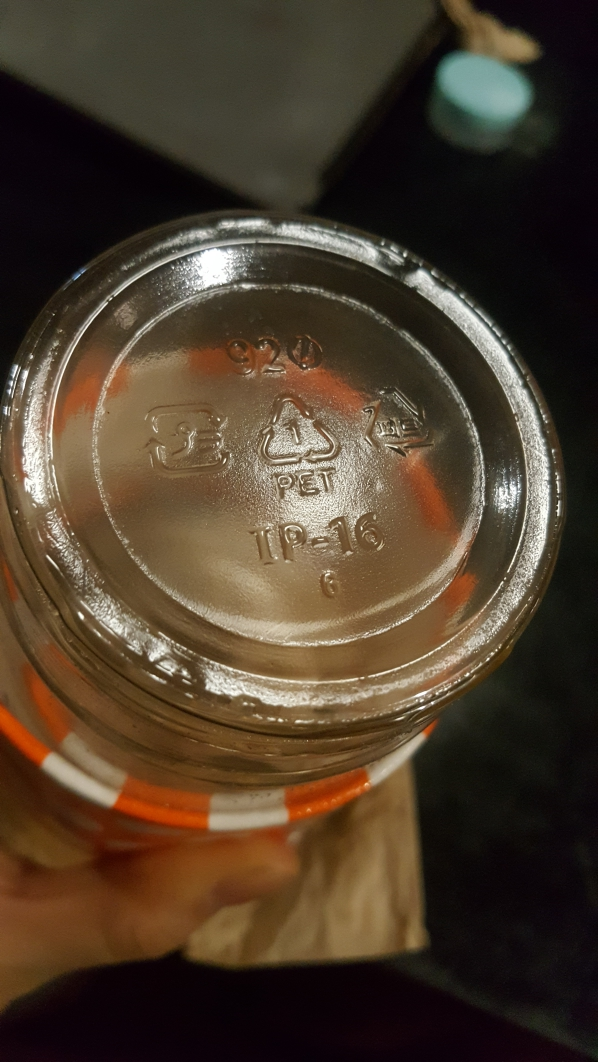recycle: (252, 391, 352, 501)
